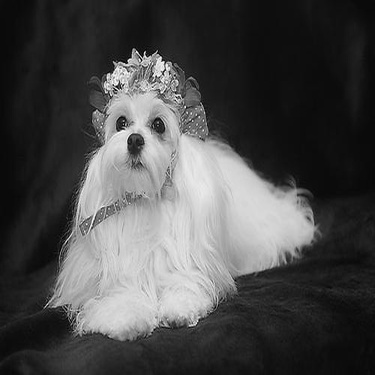dog: (38, 34, 330, 348)
